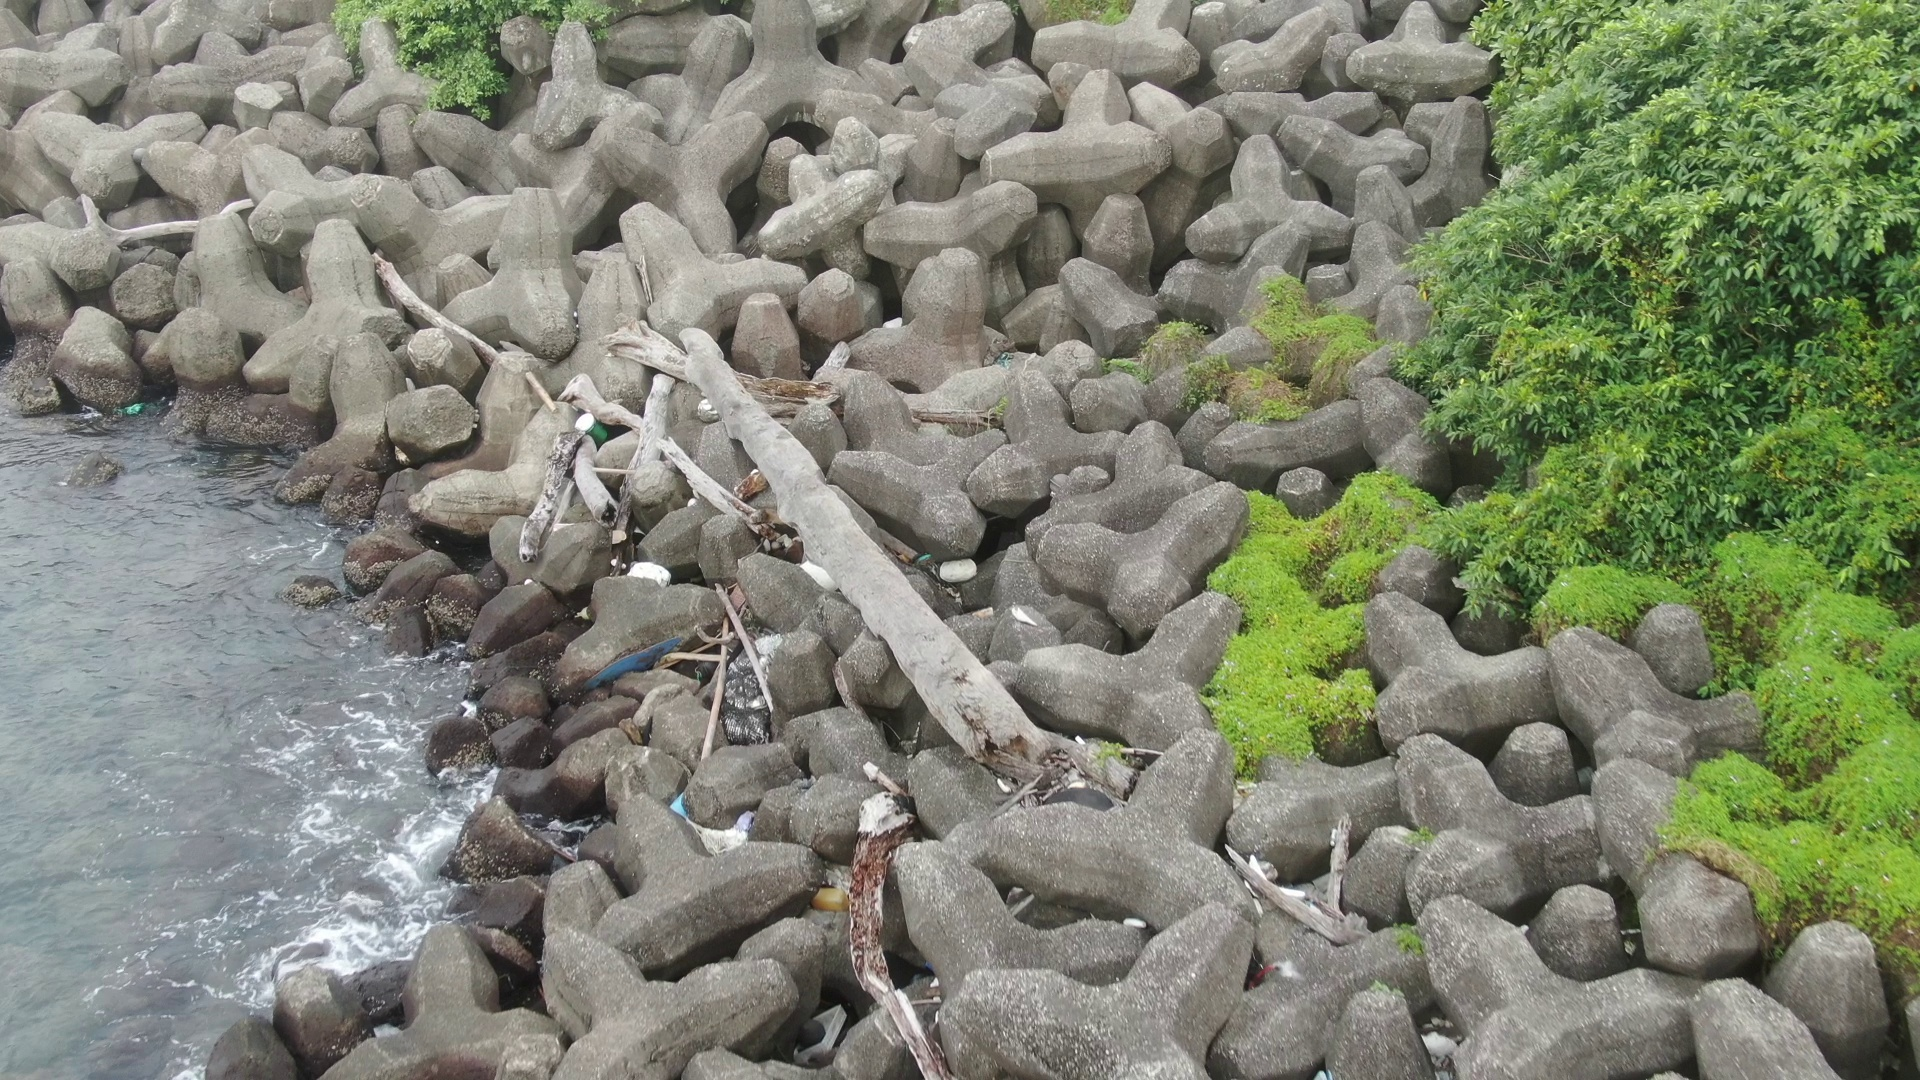garbage: (700, 620, 796, 742), (655, 771, 785, 858), (578, 626, 687, 688), (814, 876, 868, 919), (923, 549, 982, 588), (566, 407, 618, 444), (796, 553, 836, 595), (107, 396, 157, 427), (626, 560, 673, 585)
